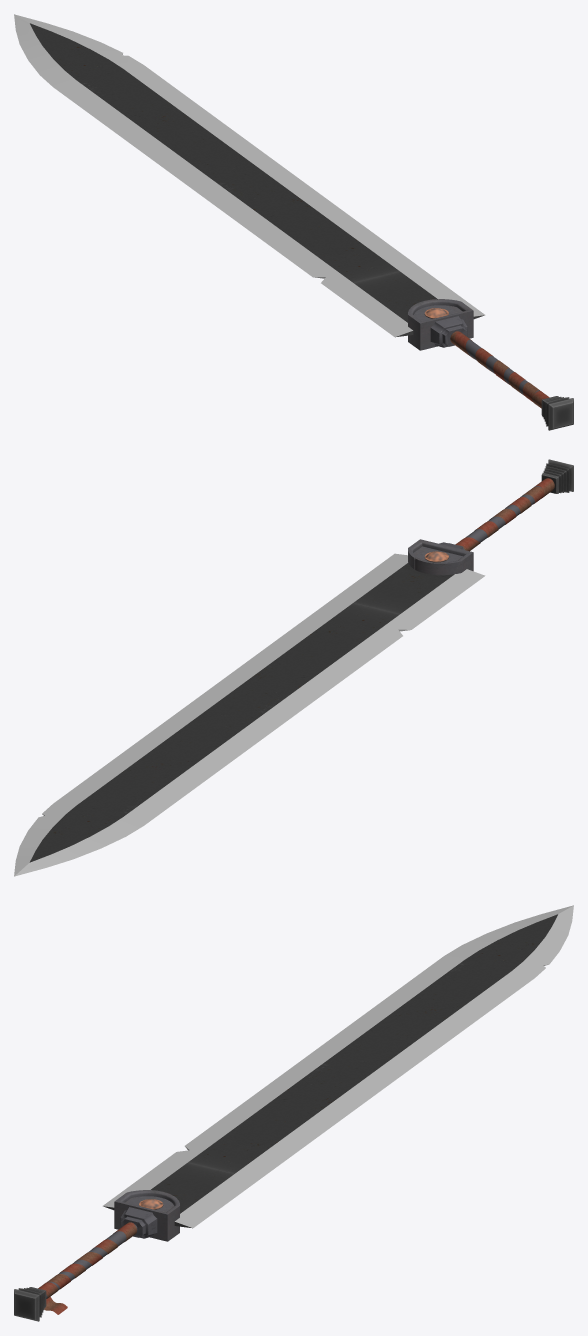
Rendered from BossSword.glb.
3 renders of one model, top to bottom at view 1: azimuth 30°, elevation 25°; view 2: azimuth 150°, elevation 25°; view 3: azimuth 330°, elevation 25°, orthographic.
Visible parts, largest first — view 1: Plane (×2), Cube.001, Plane.005, Cube, Circle.001; view 2: Plane (×2), Cube.001, Plane.005, Cube; view 3: Plane (×2), Cube.001, Plane.005, Cube, Circle.001, Circle.
Part boxes in pixels (box(x1,y1,x2,y2)): Plane (×2): box(14, 14, 485, 337); Cube.001: box(408, 299, 473, 350); Plane.005: box(450, 331, 549, 408); Cube: box(541, 396, 573, 430); Circle.001: box(430, 316, 467, 347); Plane (×2): box(14, 553, 485, 876); Cube.001: box(408, 539, 473, 575); Plane.005: box(455, 478, 554, 551); Cube: box(541, 459, 573, 493); Plane (×2): box(102, 905, 573, 1228); Cube.001: box(114, 1190, 179, 1241); Plane.005: box(38, 1222, 136, 1314); Cube: box(14, 1287, 46, 1321); Circle.001: box(120, 1207, 157, 1238); Circle: box(46, 1224, 137, 1298).
Bounding box in the file's own units: 0.1912 × 0.0575 × 2.
Materials: 8 (8 with a texture image).
